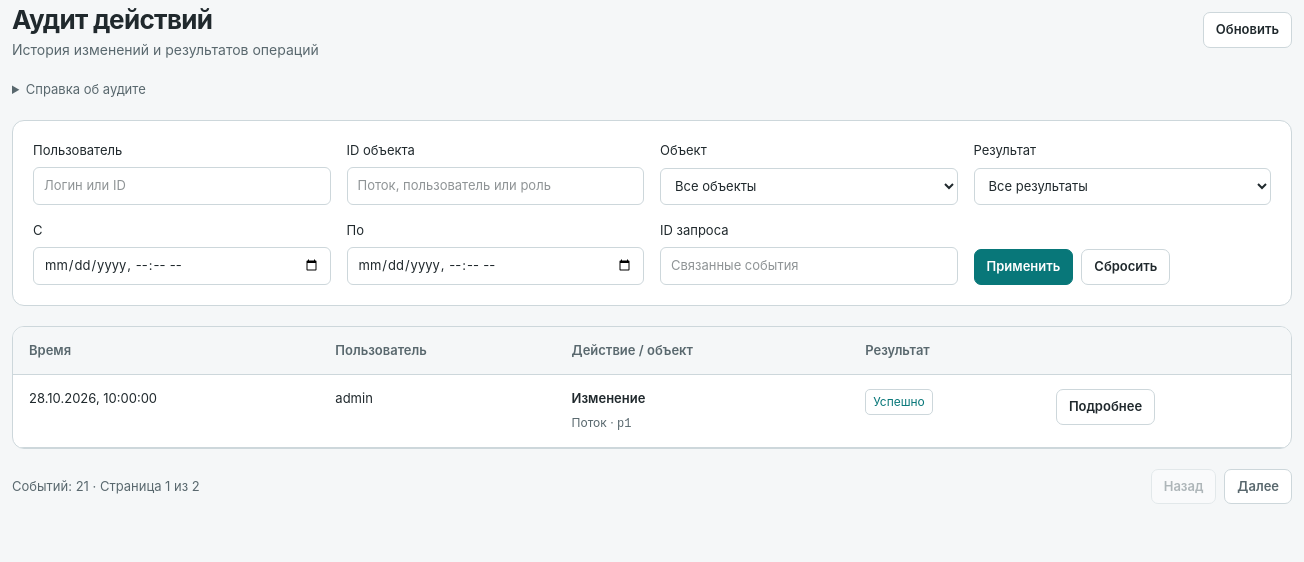
Scenario: does not request an inverted period
Expected: the text "admin" is shown, [319,375,556,447]
In the field labelled "С": (182,266) [33,247,330,284], type "2026-10-28T10:00"
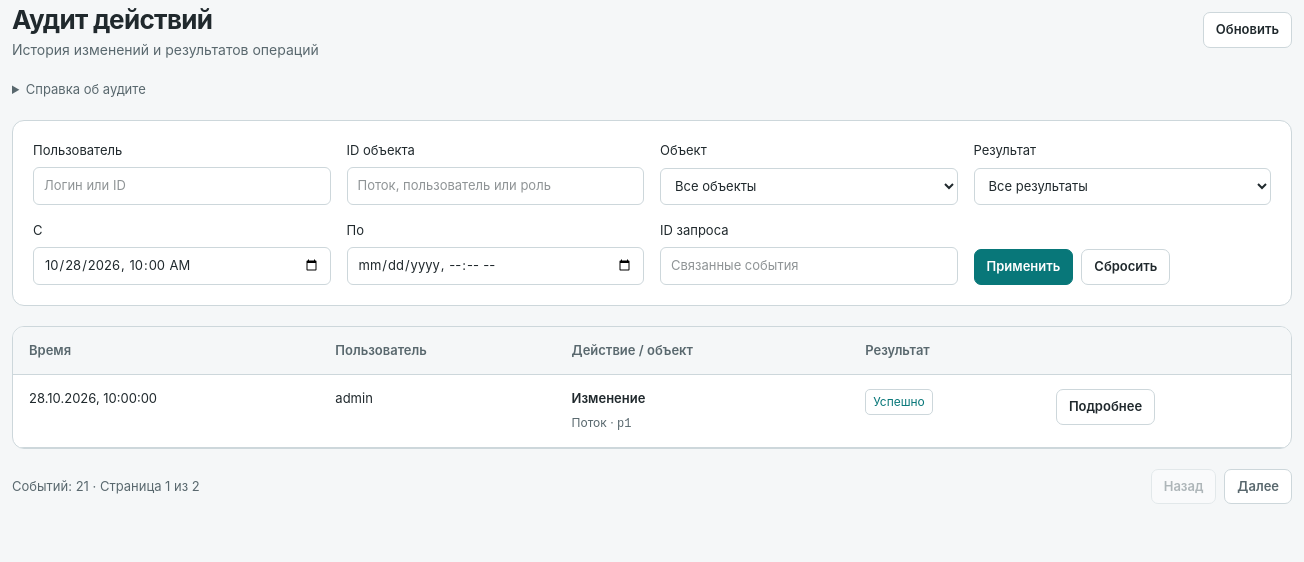
In the field labelled "По": (495,266) [346,247,644,284], type "2026-10-27T10:00"
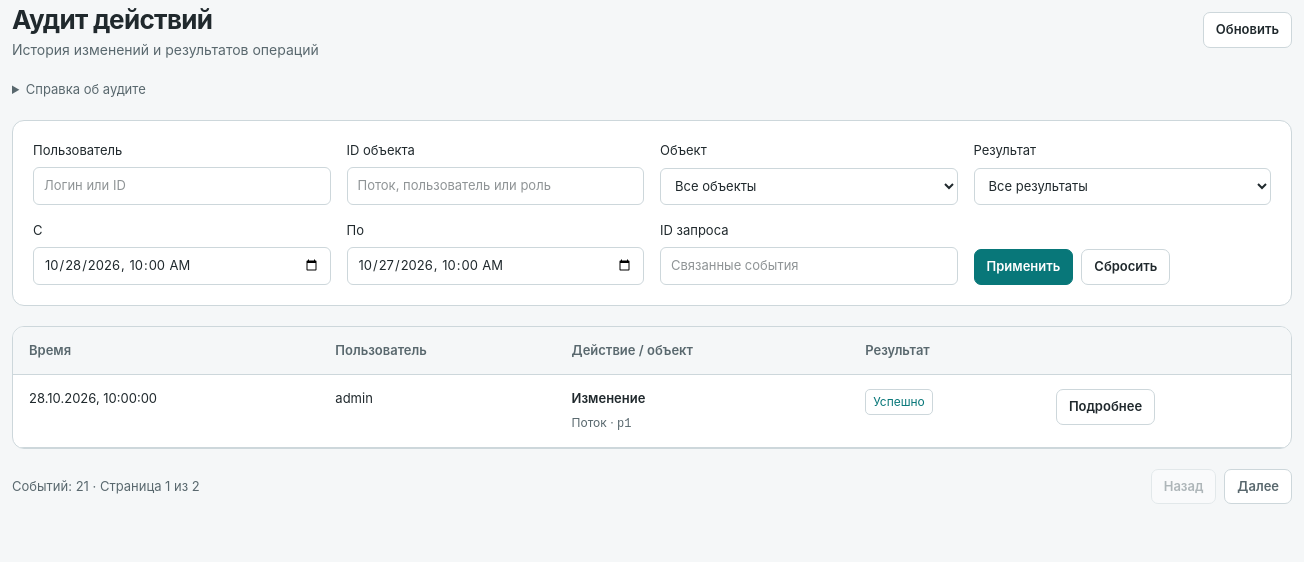
Click the button "Применить": (1023,267) [974,249,1073,284]
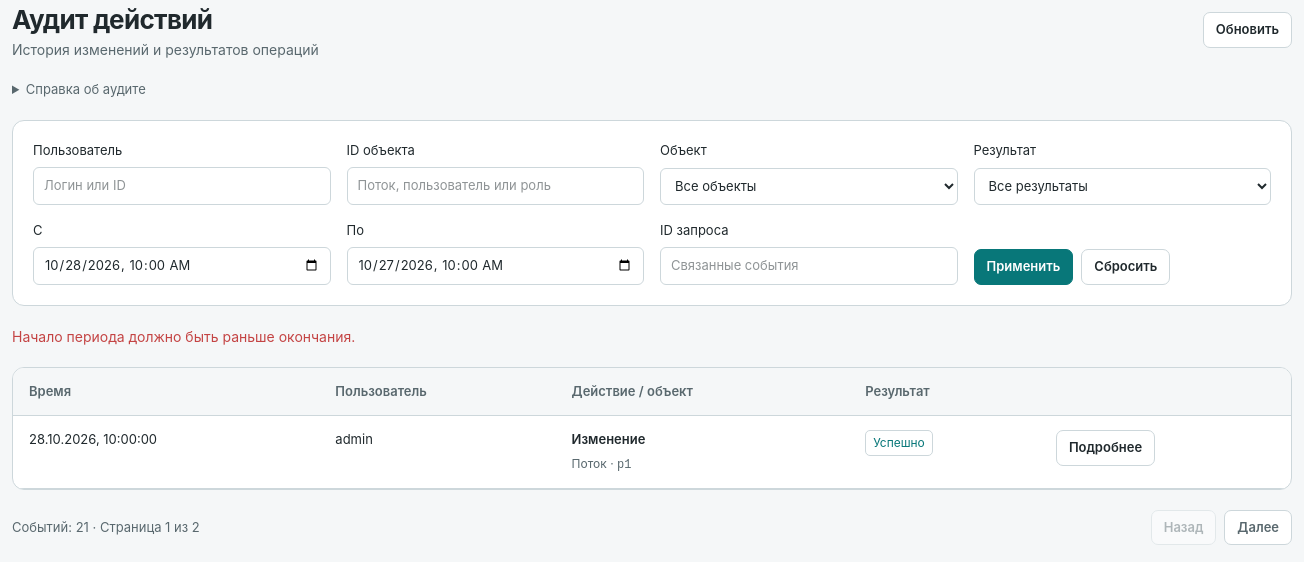
Now the message shows "раньше", box [12,328,355,344]
